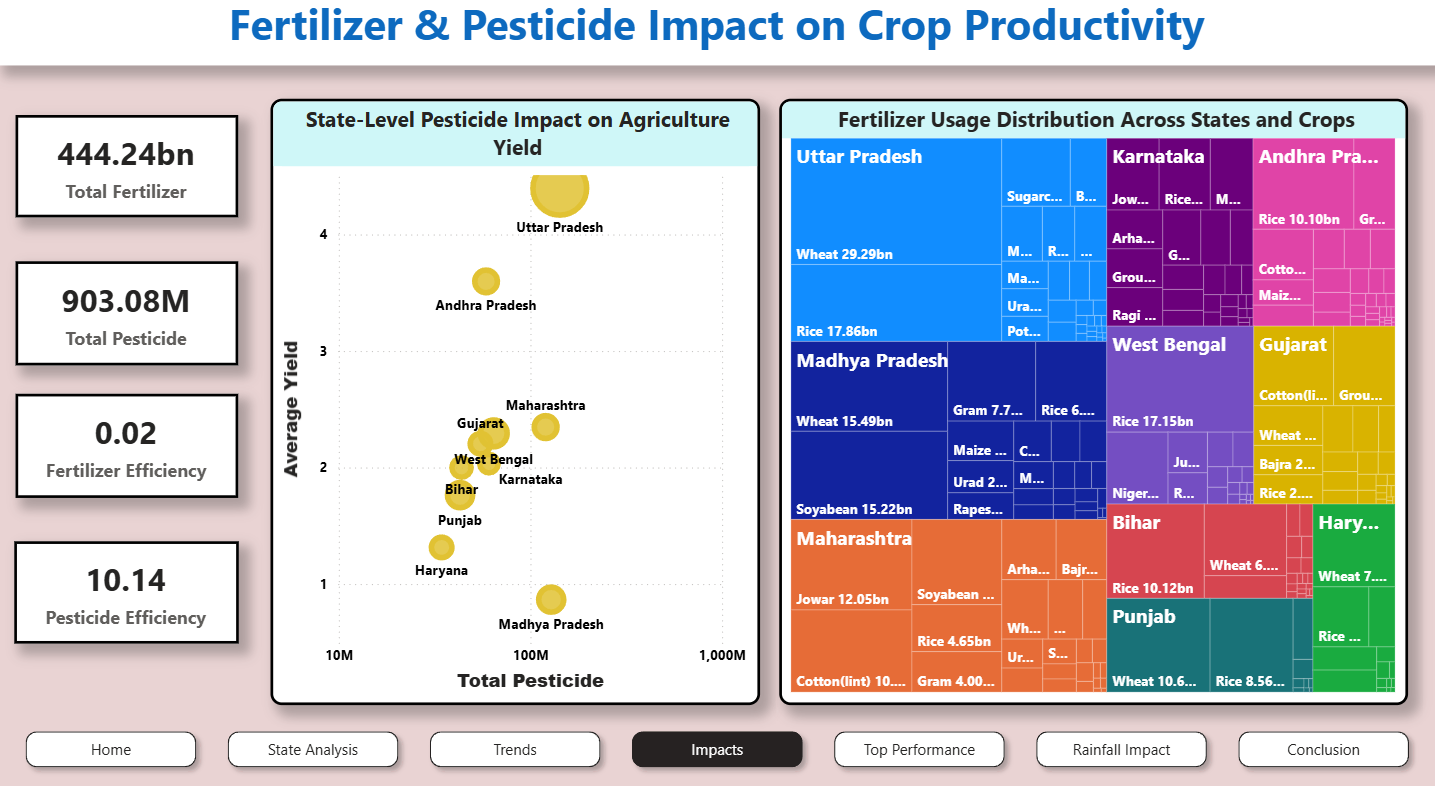

Layout of this report page (visuals, bound fields, positions):
{"tool":"powerbi","page":{"name":"Impacts","canvas":[1280,720],"ordinal":3},"visuals":[{"type":"card","fields":{"Values":["crop_yield.Total Fertilizer"]},"box":[15.7,111.4,198.6,91.4],"z":0},{"type":"card","fields":{"Values":["crop_yield.Total Pesticide"]},"box":[15.7,241.4,198.6,92.9],"z":1},{"type":"card","fields":{"Values":["crop_yield.Fertilizer Efficiency"]},"box":[15.7,360,198.6,92.9],"z":2},{"type":"card","fields":{"Values":["crop_yield.Pesticide Efficiency"]},"box":[14.3,491.4,200,91.4],"z":3},{"type":"scatterChart","title":"State-Level Pesticide Impact on Agriculture Yield","fields":{"X":["crop_yield.Total Pesticide"],"Y":["crop_yield.Average Yield"],"Size":["crop_yield.Total Production"],"Category":["crop_yield.State"]},"box":[242.9,97.1,435.7,540],"z":4},{"type":"treemap","title":"Fertilizer Usage Distribution Across States and Crops ","fields":{"Group":["crop_yield.State"],"Details":["crop_yield.Crop"],"Values":["crop_yield.Total Fertilizer"]},"box":[695.7,97.1,560,540],"z":5},{"type":"pageNavigator","box":[15.7,651.4,1250,50],"z":7},{"type":"textbox","box":[0,0,1280,67.1],"z":8}]}

Visuals, with their boxes in screenshot pixels (x1, y1, x2, y2), scaled from the page's 1280x720 canvas onto the 1435x786 screenshot:
card - crop_yield.Total Fertilizer: 18/122/240/221
card - crop_yield.Total Pesticide: 18/264/240/365
card - crop_yield.Fertilizer Efficiency: 18/393/240/494
card - crop_yield.Pesticide Efficiency: 16/536/240/636
"State-Level Pesticide Impact on Agriculture Yield" scatterChart: 272/106/761/696
"Fertilizer Usage Distribution Across States and Crops " treemap: 780/106/1408/696
pageNavigator: 18/711/1419/766
textbox: 0/0/1434/73
